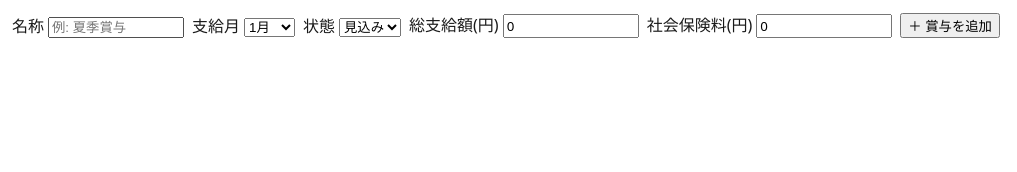
Test: BonusEditor › 名称未入力ではエラーになりonChangeが呼ばれない
Click the button "＋ 賞与を追加".
click(950, 25)  # box top-left (900, 12), bottom-right (1000, 38)
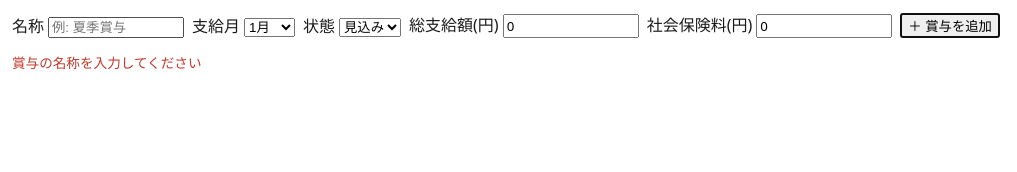
Expected: the message shows "名称を入力してください", top-left (12, 53), bottom-right (202, 72)
